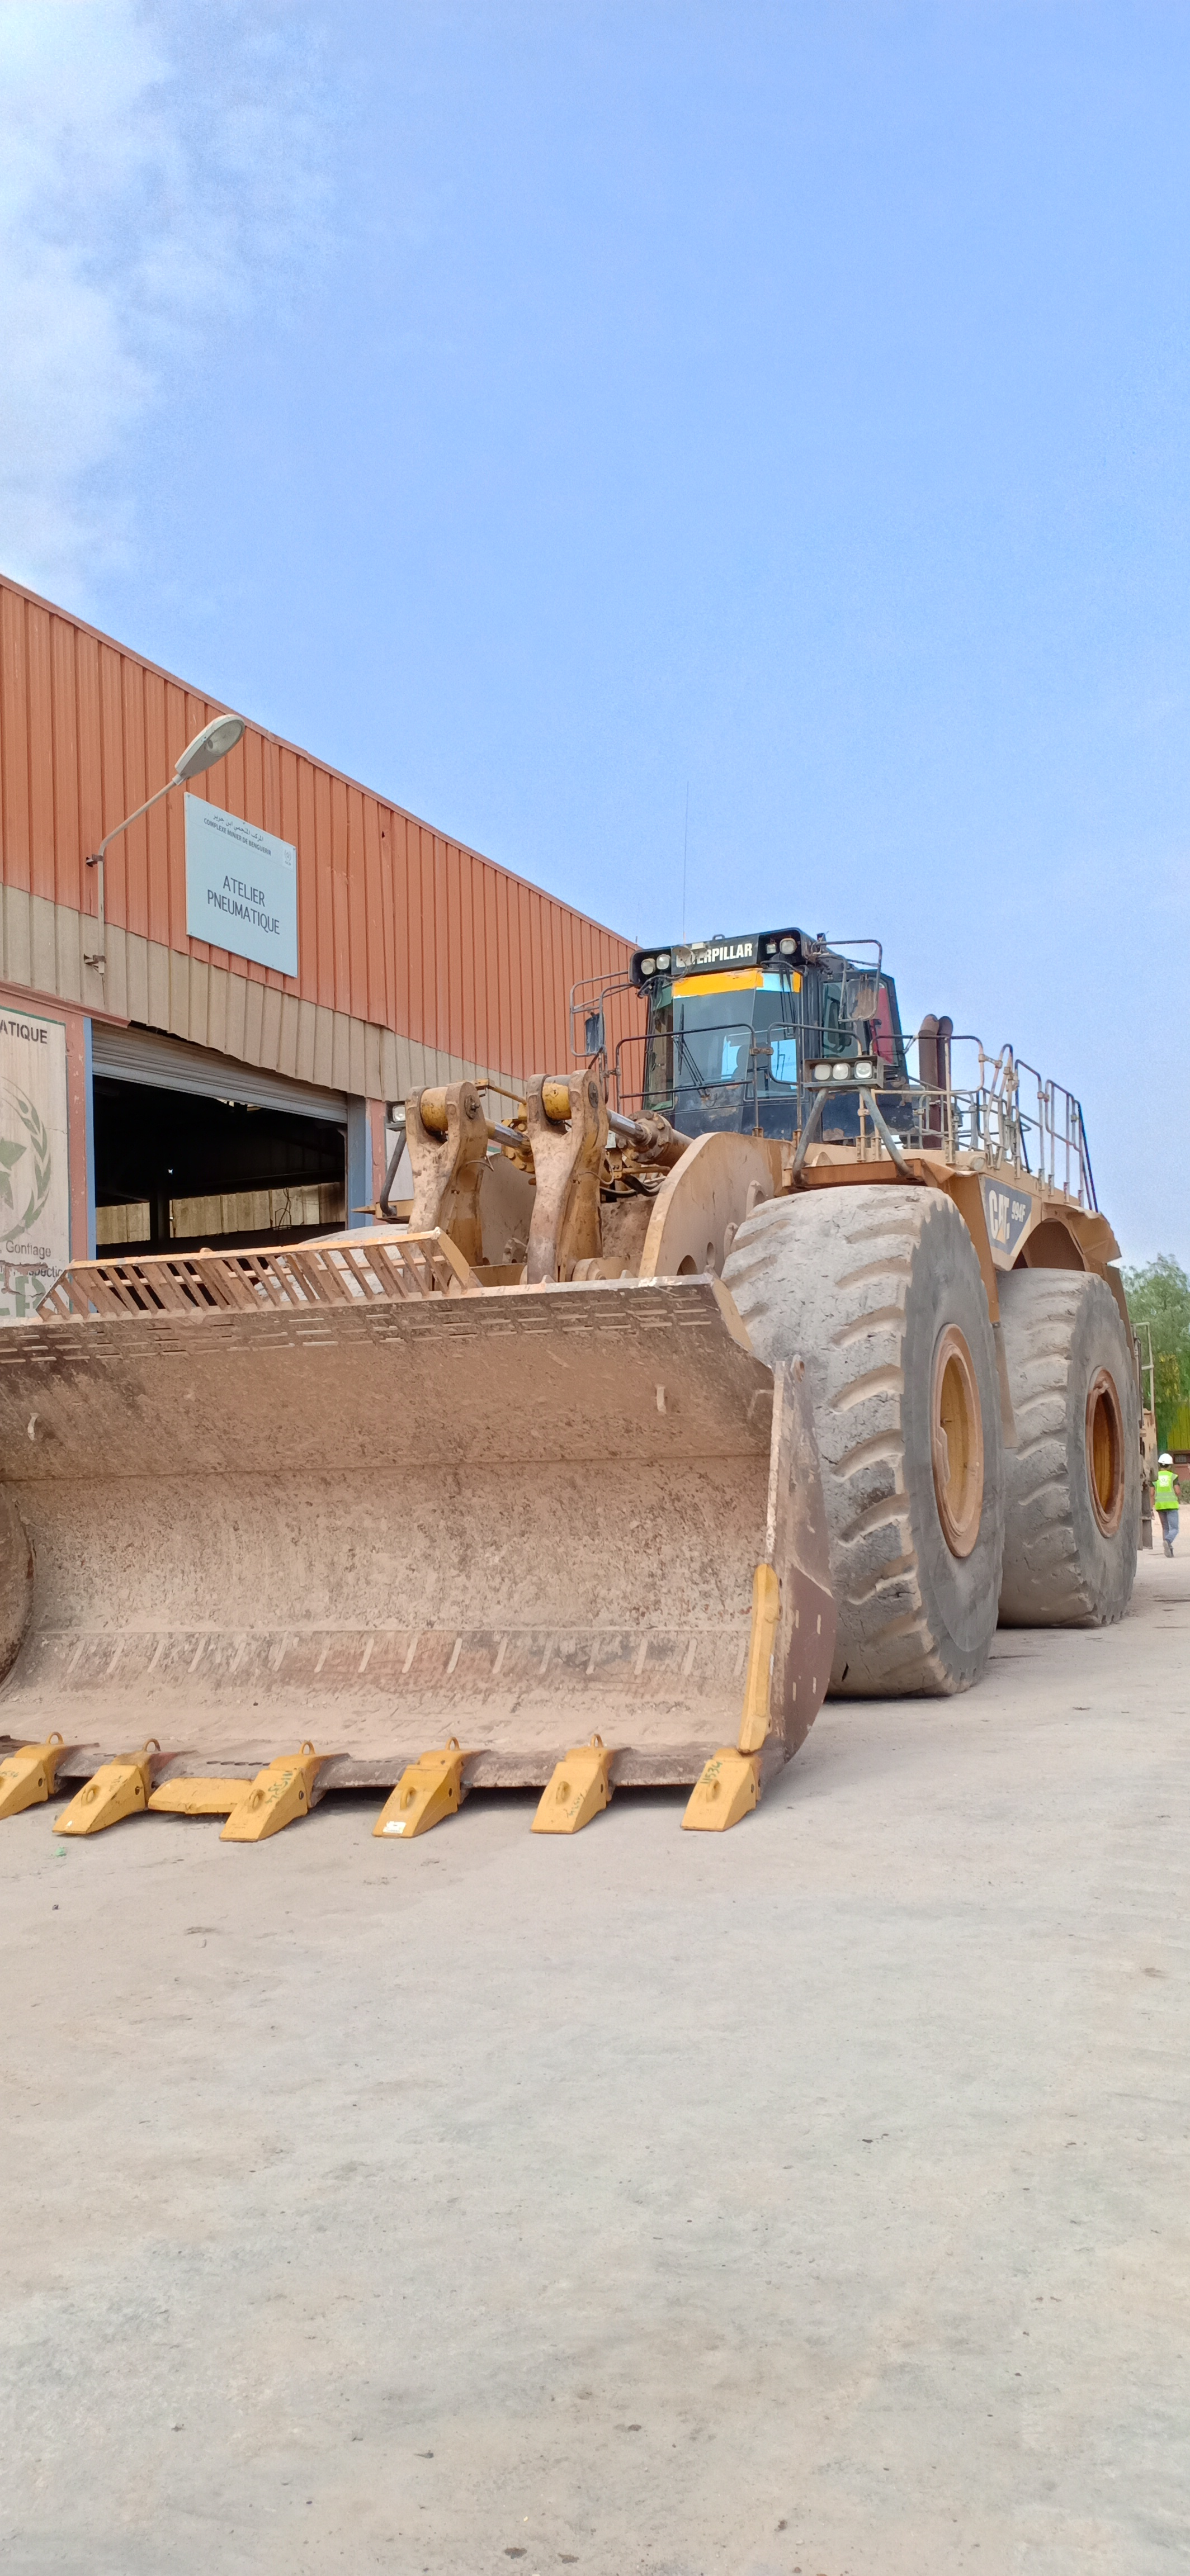chargeuse: (0, 946, 1154, 1873)
